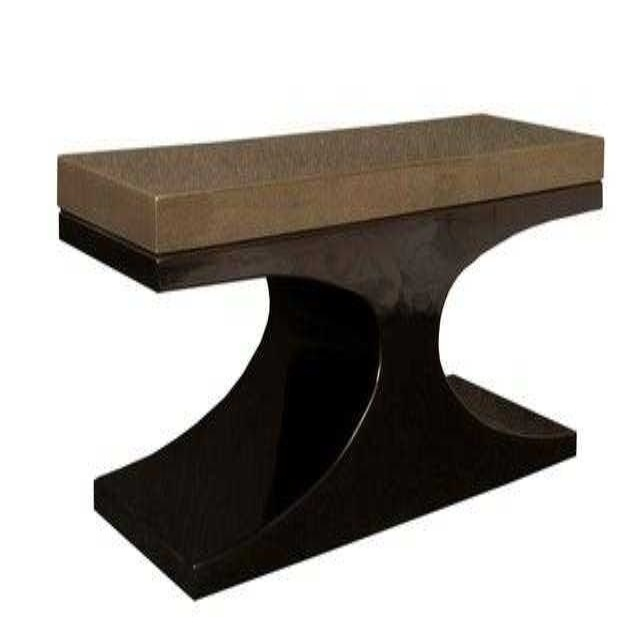obstacle: (58, 116, 603, 597)
